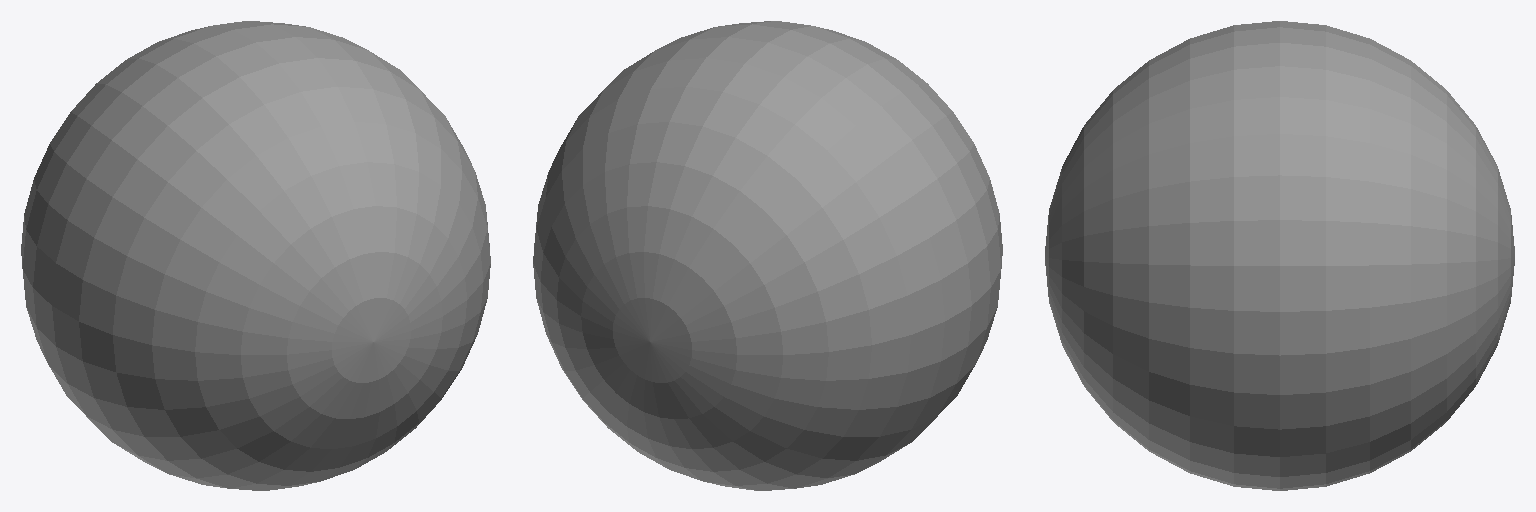
Rendered from primitive_sphere_z_up_-x_forward.obj.
3 views of the same model, side by side, from view 1: azimuth 30°, elevation 25°; view 2: azimuth 150°, elevation 25°; view 3: azimuth 270°, elevation 25° (orthographic).
Visible parts, largest first — view 1: Sphere; view 2: Sphere; view 3: Sphere.
Part boxes in pixels (x1,y1,x2,y2): Sphere: (21,21,490,490); Sphere: (533,21,1002,490); Sphere: (1045,21,1514,490).
Size of the model in its own units: 2 by 2 by 2.